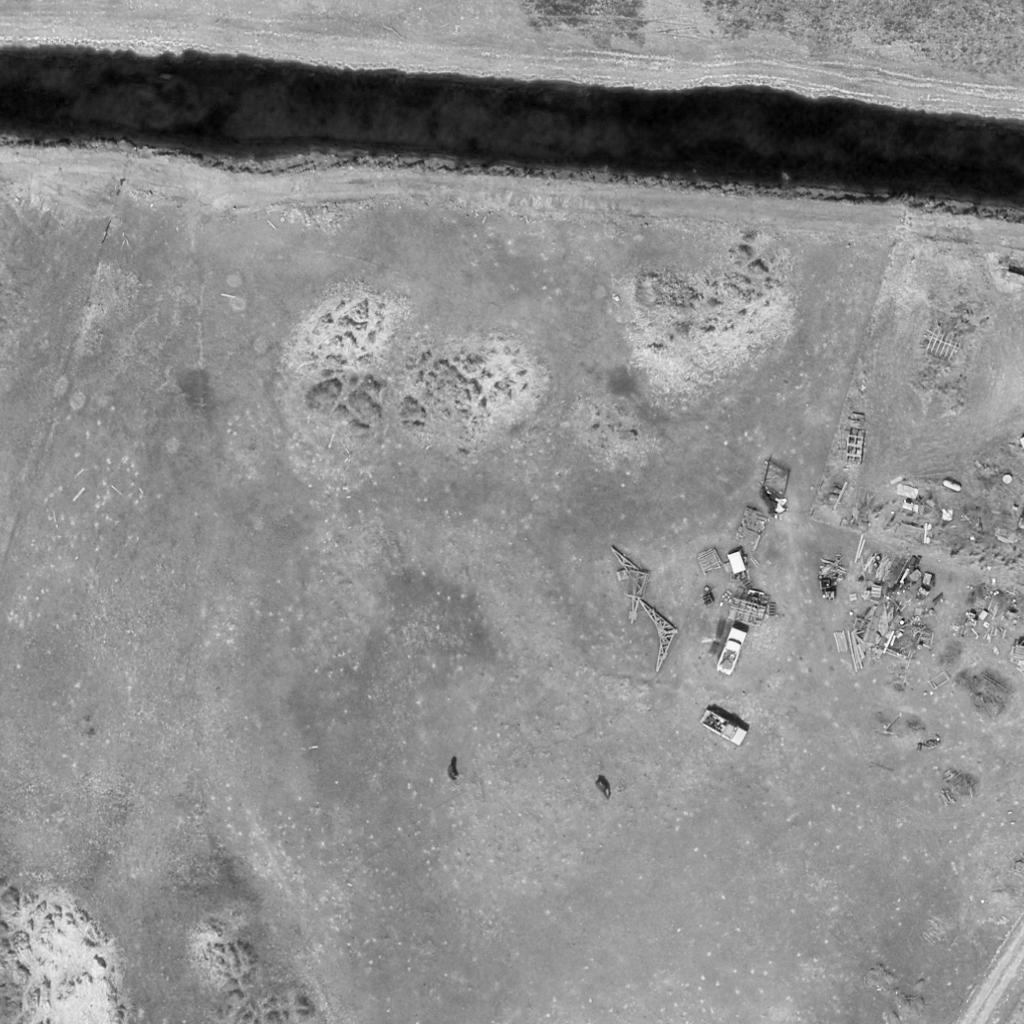vehicle: (713, 626, 753, 678), (699, 709, 749, 745)
